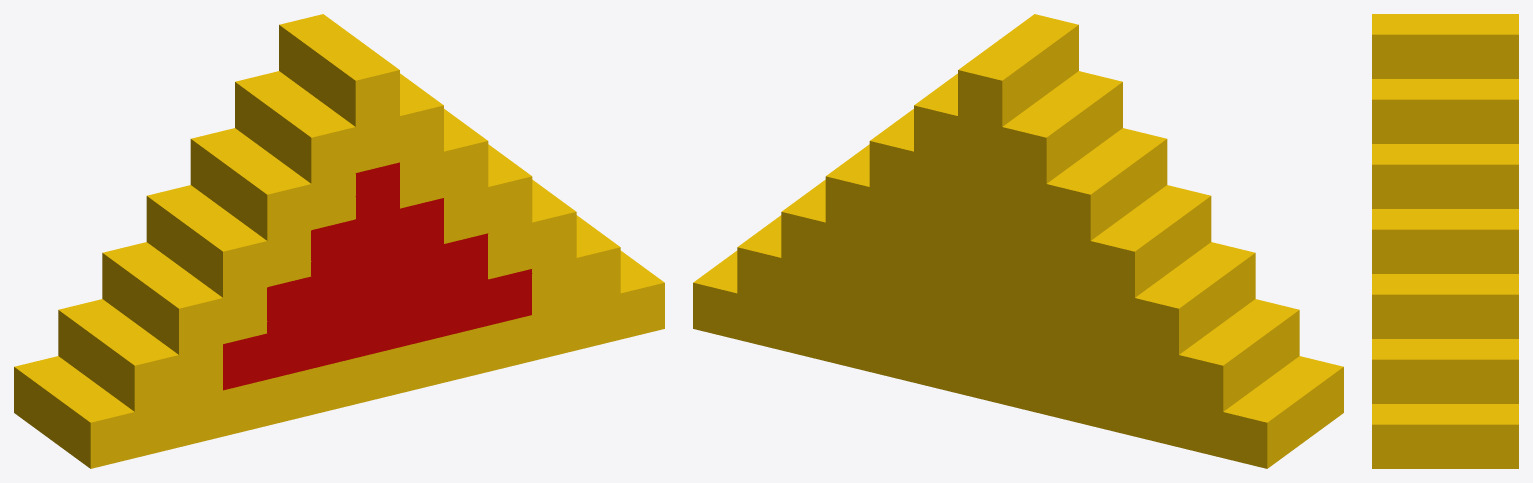
File: flecha-inv.fbx
The picture shows the model from 3 angles, left to right: view 1: azimuth 30°, elevation 25°; view 2: azimuth 150°, elevation 25°; view 3: azimuth 270°, elevation 25°; orthographic projection. The views are drawn at different scales.
Parts seen in each view (by area): view 1: Matrix_25; view 2: Matrix_25; view 3: Matrix_25.
Part boxes in pixels (x1,y1,x2,y2): Matrix_25: (14,14,664,468); Matrix_25: (693,14,1343,468); Matrix_25: (1372,14,1518,468).
Bounding box in the file's own units: 13 × 7 × 3.
